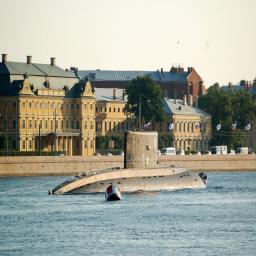submarine: (47, 126, 212, 198)
